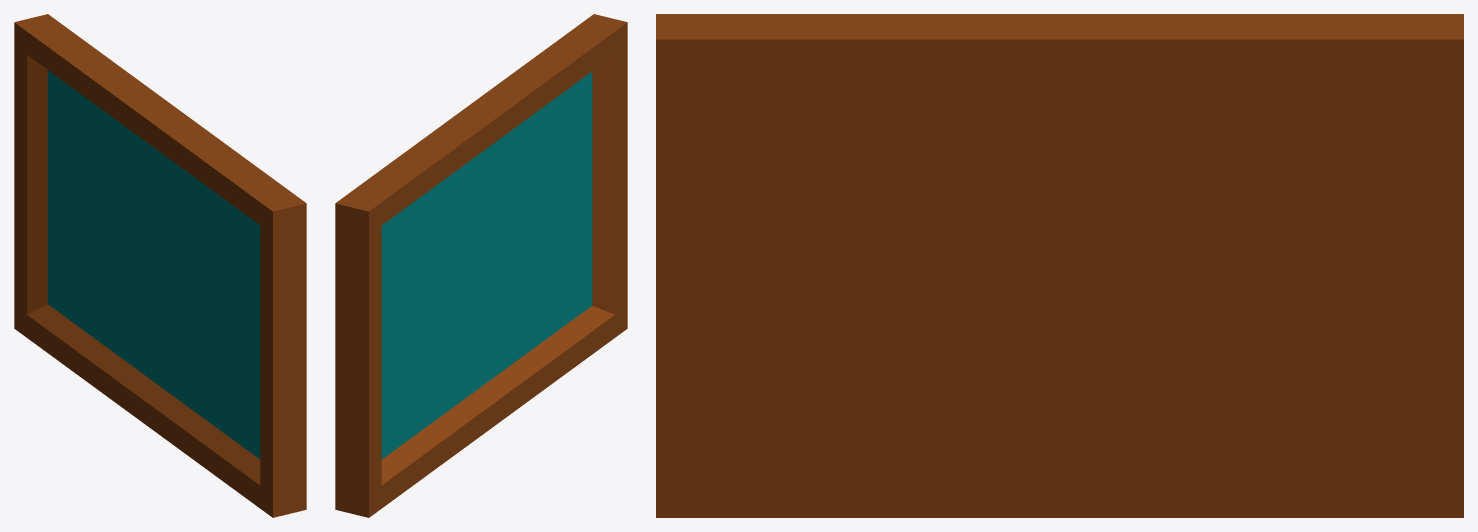
Rendered from Frame.dae.
The picture shows the model from 3 angles, left to right: view 1: azimuth 30°, elevation 25°; view 2: azimuth 150°, elevation 25°; view 3: azimuth 270°, elevation 25°; orthographic projection. The views are drawn at different scales.
Visible parts, largest first — view 1: Group_8 (×3); view 2: Group_8 (×3); view 3: Group_8.
Boxes of the visible parts, box(x1,y1,x2,y2) form: Group_8 (×3): box(14, 14, 306, 517); Group_8 (×3): box(335, 14, 627, 517); Group_8: box(656, 14, 1463, 517).
Size of the model in its own units: 3.63 by 48.09 by 31.41.
